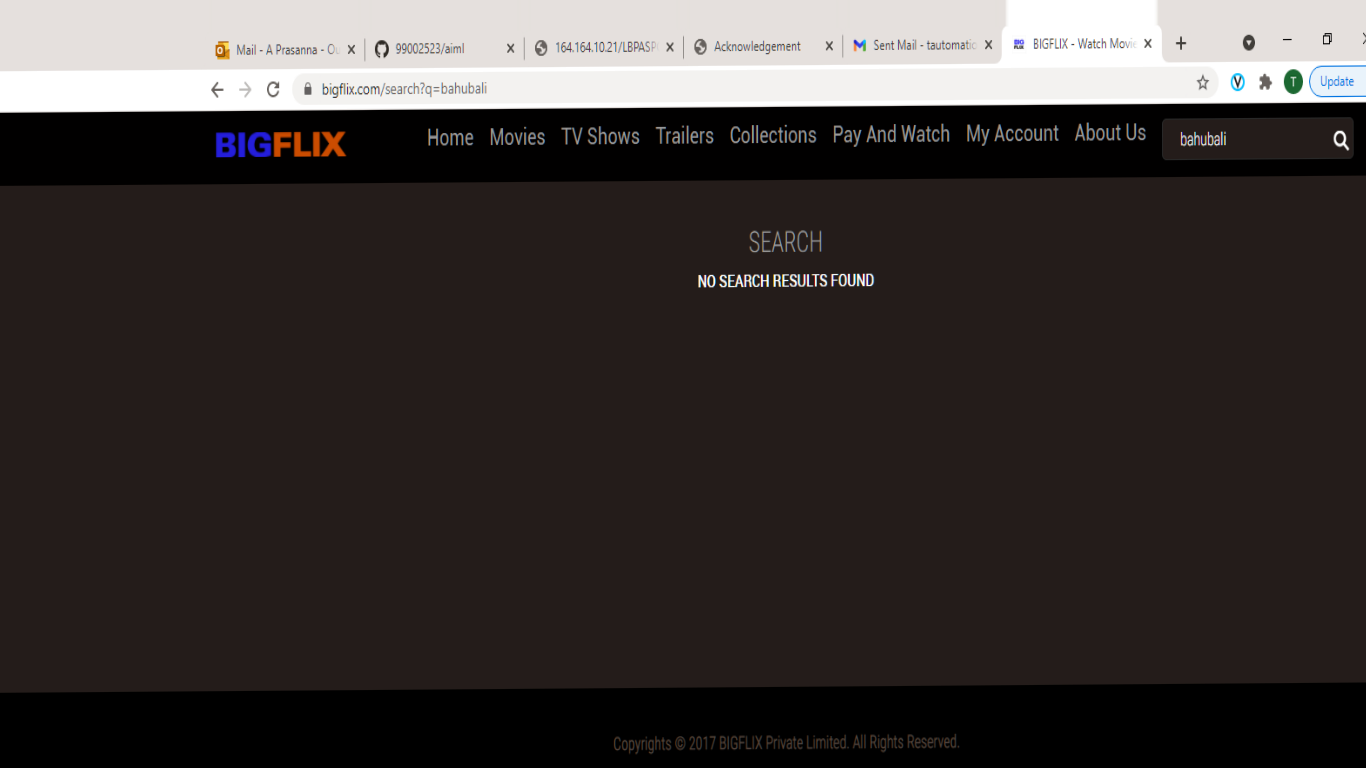myaccountbutton: (959, 119, 1067, 151)
noresultsfound: (660, 214, 929, 307)
searchicon: (1326, 123, 1361, 153)
searchtextbox: (1152, 112, 1357, 171)
